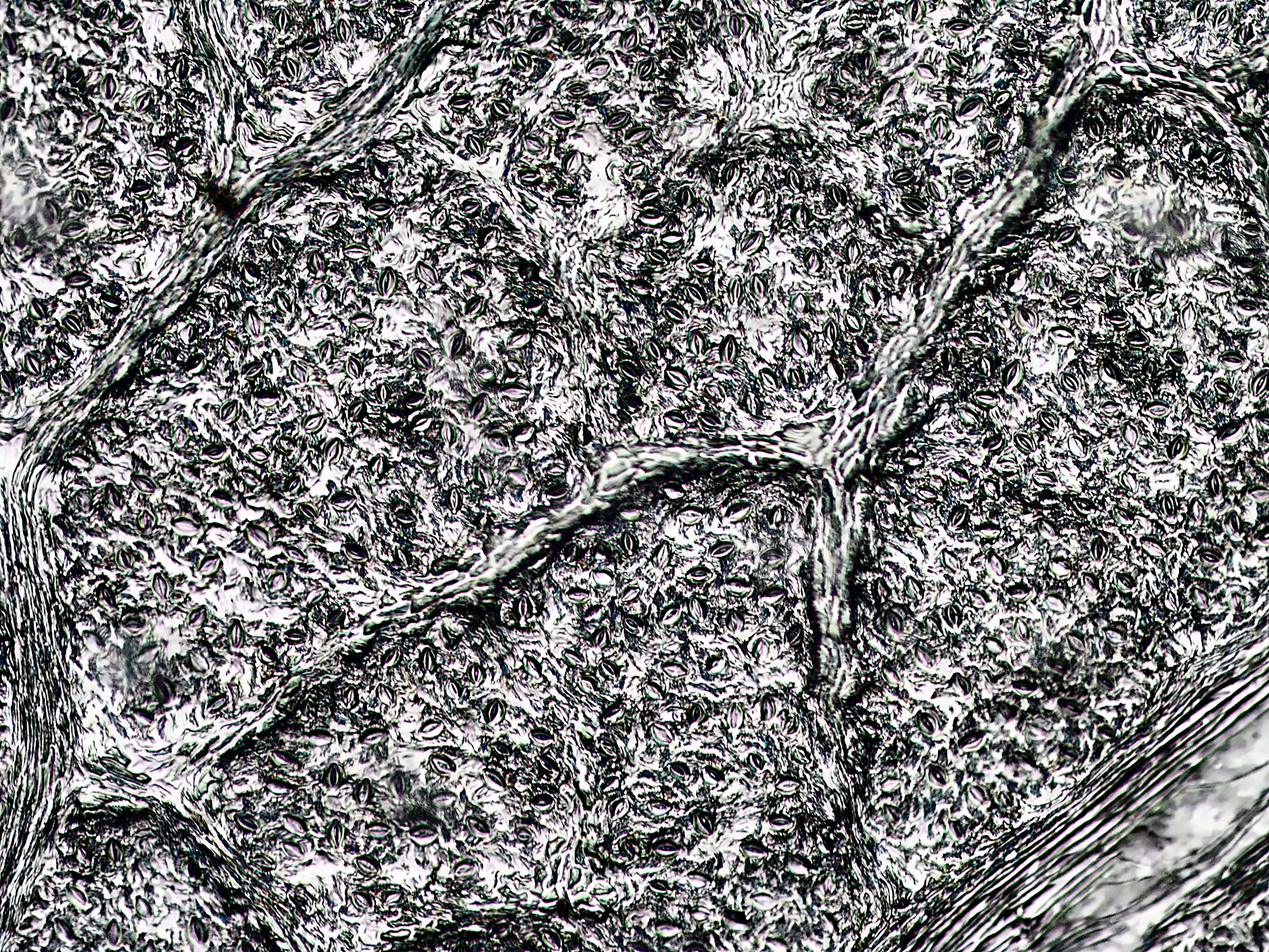stomata: (80, 626, 108, 655), (242, 305, 265, 338), (539, 926, 568, 952), (1002, 359, 1024, 392), (352, 854, 382, 878), (719, 333, 741, 365), (408, 825, 440, 847), (462, 815, 494, 837), (53, 915, 77, 944), (188, 916, 209, 949), (377, 265, 398, 298), (1215, 421, 1246, 443), (822, 317, 843, 349), (765, 811, 797, 832), (444, 331, 467, 360), (737, 840, 772, 859), (154, 674, 176, 704), (264, 776, 294, 798), (359, 725, 389, 747), (484, 430, 510, 455), (246, 522, 270, 549), (174, 137, 202, 160), (479, 225, 502, 253), (648, 722, 676, 745), (650, 537, 670, 569), (708, 461, 740, 481), (879, 79, 901, 108), (725, 702, 747, 731), (1167, 434, 1189, 463), (64, 884, 89, 909), (959, 96, 983, 122), (692, 809, 716, 835), (468, 394, 491, 421), (929, 115, 952, 142), (958, 731, 985, 754), (562, 147, 582, 178), (97, 582, 119, 610), (438, 419, 460, 447), (484, 696, 506, 724), (1153, 248, 1175, 276), (1067, 431, 1089, 459), (376, 681, 397, 710), (1250, 368, 1269, 400), (40, 198, 60, 228), (254, 387, 284, 407), (344, 540, 369, 564), (323, 764, 343, 794), (1059, 370, 1083, 395), (1014, 431, 1038, 456), (1186, 495, 1206, 525), (507, 329, 533, 352), (741, 232, 764, 258), (502, 382, 529, 404), (281, 812, 308, 834), (986, 550, 1008, 577), (1156, 491, 1178, 518), (924, 761, 946, 788), (783, 854, 814, 873), (1202, 276, 1233, 295), (8, 225, 29, 253), (64, 450, 92, 471), (720, 159, 741, 187), (430, 790, 458, 811), (759, 545, 787, 566), (1049, 325, 1077, 346), (1098, 356, 1119, 384), (307, 248, 327, 277), (281, 545, 310, 565), (772, 774, 801, 794), (662, 660, 691, 680), (962, 329, 991, 349), (1197, 548, 1226, 568), (1011, 677, 1040, 697), (1014, 306, 1038, 330), (74, 491, 99, 514), (188, 647, 211, 672), (416, 261, 439, 286), (530, 791, 556, 813), (1043, 592, 1069, 614), (683, 565, 713, 584), (759, 693, 778, 723), (525, 26, 552, 47), (171, 516, 199, 536), (698, 412, 726, 432), (724, 504, 752, 524), (1099, 625, 1127, 645), (1058, 695, 1086, 715), (445, 483, 463, 514), (1147, 114, 1165, 145), (433, 752, 456, 776), (483, 767, 506, 791), (1006, 269, 1029, 293), (317, 338, 336, 367), (689, 257, 718, 276), (687, 328, 706, 357), (353, 777, 372, 806), (1121, 421, 1140, 450), (685, 866, 710, 888), (606, 795, 628, 820), (880, 663, 902, 688), (131, 473, 157, 494), (331, 492, 357, 513), (757, 365, 778, 391), (1119, 223, 1145, 244), (226, 619, 244, 649), (828, 183, 848, 210), (627, 278, 654, 298), (273, 749, 300, 769), (590, 626, 610, 653), (679, 505, 706, 525), (725, 577, 752, 597), (876, 775, 903, 795), (947, 19, 975, 38), (90, 37, 114, 59), (942, 547, 964, 571), (327, 818, 344, 849), (220, 399, 241, 424), (412, 348, 433, 373), (418, 718, 443, 739), (585, 58, 611, 78), (551, 109, 577, 129), (947, 465, 973, 485), (953, 672, 973, 698), (349, 312, 376, 331), (323, 438, 342, 465), (752, 274, 771, 301), (522, 653, 541, 680), (516, 594, 532, 626), (844, 238, 861, 268), (199, 554, 221, 577), (187, 605, 209, 628), (449, 91, 472, 113), (665, 367, 688, 389), (282, 839, 305, 861), (724, 906, 746, 929), (910, 510, 933, 532), (1117, 471, 1140, 493), (916, 711, 938, 734), (133, 89, 154, 113), (319, 209, 343, 230), (463, 296, 487, 317), (702, 383, 726, 404), (792, 329, 810, 357), (367, 819, 391, 840), (419, 648, 437, 676), (136, 509, 156, 534), (150, 573, 170, 598), (908, 0, 928, 25), (790, 292, 810, 317), (251, 852, 276, 872), (662, 479, 687, 499), (750, 636, 770, 661), (1084, 115, 1104, 140), (904, 575, 924, 600), (965, 588, 990, 608), (392, 769, 408, 800), (852, 118, 878, 137), (750, 185, 769, 211), (1053, 226, 1079, 245), (884, 609, 903, 635), (107, 836, 124, 865), (158, 712, 175, 741), (366, 199, 395, 216), (1209, 469, 1226, 498), (88, 159, 115, 177), (200, 443, 227, 461), (274, 9, 292, 36), (431, 205, 449, 232), (544, 484, 571, 502), (605, 110, 632, 128), (750, 893, 777, 911), (185, 353, 207, 375), (352, 891, 374, 913), (957, 405, 979, 427), (945, 817, 967, 839), (897, 127, 920, 148), (235, 810, 258, 831), (1180, 139, 1201, 162), (1165, 348, 1188, 369), (129, 180, 153, 200), (344, 356, 364, 380), (288, 359, 308, 383), (842, 11, 866, 31), (947, 53, 971, 73), (954, 168, 978, 188), (889, 261, 909, 285), (668, 758, 692, 778), (1102, 164, 1126, 184), (1064, 633, 1088, 653), (794, 202, 811, 230), (653, 921, 681, 938), (761, 588, 789, 605), (1218, 352, 1246, 369), (174, 99, 199, 118), (144, 151, 169, 170), (121, 616, 146, 635), (502, 357, 527, 376), (661, 303, 686, 322), (941, 346, 960, 371), (948, 504, 967, 529), (99, 75, 117, 101), (99, 294, 125, 312), (210, 490, 236, 508), (136, 894, 154, 920), (460, 269, 486, 287), (505, 468, 531, 486), (804, 247, 822, 273), (828, 358, 846, 384), (1225, 510, 1243, 536), (105, 918, 120, 949), (730, 275, 745, 306), (64, 271, 93, 287), (1181, 301, 1197, 330), (946, 602, 962, 631), (562, 36, 584, 57), (685, 282, 706, 304), (618, 359, 639, 381), (518, 262, 541, 282), (302, 412, 325, 432), (1038, 411, 1061, 431), (913, 645, 933, 668), (106, 213, 133, 230), (60, 222, 87, 239), (1139, 630, 1156, 657), (415, 448, 439, 467), (295, 502, 319, 521), (563, 648, 587, 667), (583, 604, 607, 623), (726, 609, 745, 633), (784, 625, 803, 649), (114, 547, 132, 572), (392, 0, 417, 18), (466, 132, 484, 157), (823, 88, 848, 106), (640, 209, 665, 227), (1104, 308, 1129, 326), (900, 449, 925, 467), (625, 129, 653, 145), (652, 95, 680, 111), (787, 164, 803, 192), (306, 730, 334, 746), (975, 522, 1003, 538), (336, 18, 353, 44), (553, 189, 579, 206), (343, 242, 369, 259), (646, 797, 672, 814), (618, 505, 644, 522), (1158, 159, 1175, 185), (1071, 497, 1097, 514), (258, 643, 279, 664), (492, 98, 513, 119), (598, 659, 619, 680), (882, 802, 903, 823), (130, 706, 152, 726), (981, 134, 1003, 154), (381, 885, 401, 907), (703, 763, 725, 783), (84, 114, 103, 137), (24, 352, 43, 375), (266, 234, 289, 253), (300, 38, 323, 57), (393, 545, 412, 568), (1049, 558, 1072, 577), (249, 56, 267, 80), (284, 56, 302, 80), (274, 290, 292, 314), (1009, 37, 1033, 55), (903, 197, 927, 215), (652, 839, 679, 855), (466, 661, 484, 685), (690, 703, 708, 727), (1089, 264, 1113, 282), (1005, 584, 1032, 600), (1140, 537, 1164, 555), (244, 259, 261, 284), (660, 231, 685, 248), (1238, 21, 1255, 46), (1090, 537, 1107, 562), (27, 297, 47, 318), (512, 51, 533, 71), (459, 196, 479, 217), (491, 919, 511, 940), (529, 729, 557, 744), (599, 738, 619, 759), (644, 682, 665, 702), (1059, 166, 1080, 186), (979, 479, 1000, 499), (1115, 573, 1135, 594), (1095, 672, 1116, 692), (240, 467, 262, 486), (368, 158, 387, 180), (474, 363, 496, 382), (268, 572, 287, 594), (457, 860, 479, 879), (711, 540, 733, 559), (1247, 485, 1269, 504), (1037, 517, 1056, 539), (173, 55, 189, 81), (662, 412, 688, 428), (1144, 401, 1170, 417), (206, 694, 229, 712), (844, 309, 862, 332), (342, 685, 360, 708), (593, 567, 616, 585), (1236, 257, 1259, 275), (872, 577, 890, 600), (125, 865, 142, 889), (370, 455, 387, 479), (678, 186, 695, 210), (688, 597, 705, 621), (1117, 108, 1134, 132), (976, 391, 1000, 408), (1145, 290, 1169, 307), (1125, 330, 1149, 347), (2, 96, 17, 123), (326, 607, 346, 627), (994, 457, 1019, 473), (966, 785, 986, 805), (110, 416, 129, 437), (487, 19, 506, 40), (636, 59, 655, 80), (1207, 147, 1226, 168), (982, 433, 1003, 452), (118, 15, 140, 33), (249, 447, 271, 465), (523, 134, 545, 152), (313, 284, 331, 306), (514, 424, 536, 442), (347, 401, 365, 423), (747, 750, 765, 772), (782, 713, 800, 735), (976, 354, 994, 376), (1081, 574, 1099, 596), (981, 636, 1003, 654), (1255, 521, 1269, 549), (23, 0, 46, 17), (76, 845, 93, 868), (223, 333, 240, 356), (929, 178, 946, 201), (892, 167, 915, 184), (998, 234, 1021, 251), (1237, 299, 1260, 316), (1061, 290, 1084, 307), (1012, 618, 1029, 641), (861, 49, 876, 75), (621, 531, 636, 557), (565, 82, 589, 98), (518, 169, 542, 185), (861, 280, 877, 304), (746, 391, 762, 415), (567, 586, 591, 602), (769, 504, 785, 528), (915, 485, 939, 501), (244, 359, 264, 378), (276, 436, 296, 455), (551, 1, 570, 21), (491, 738, 511, 757), (381, 648, 400, 668), (661, 604, 681, 623), (1213, 380, 1233, 399), (1114, 506, 1133, 526), (73, 189, 91, 210), (64, 313, 82, 334), (669, 40, 687, 61), (992, 91, 1013, 109), (647, 248, 668, 266), (606, 701, 624, 722), (646, 880, 671, 895), (38, 111, 55, 133), (393, 509, 415, 526), (621, 28, 638, 50), (623, 396, 645, 413), (853, 335, 870, 357), (707, 654, 724, 676), (1128, 266, 1145, 288), (403, 391, 426, 407), (1214, 5, 1230, 28), (1039, 269, 1055, 292), (108, 483, 122, 509), (537, 754, 556, 773), (55, 340, 73, 360), (523, 299, 547, 314), (306, 587, 326, 605), (476, 464, 491, 488), (917, 62, 937, 80), (624, 615, 642, 635), (1099, 399, 1123, 414), (621, 587, 642, 604), (861, 720, 882, 737), (879, 33, 901, 49), (1194, 587, 1210, 609), (1030, 472, 1057, 485), (575, 420, 589, 445), (1214, 224, 1228, 249), (3, 31, 18, 54), (14, 163, 37, 178), (173, 425, 188, 448), (216, 292, 231, 315), (94, 4, 112, 23), (375, 383, 392, 403), (626, 161, 646, 178), (645, 337, 662, 357), (794, 744, 811, 764), (1096, 723, 1116, 740), (183, 858, 199, 879), (639, 189, 660, 205), (552, 703, 568, 724), (1193, 0, 1209, 21), (1188, 392, 1204, 413), (1059, 744, 1080, 760), (1038, 492, 1060, 507), (0, 369, 13, 394), (159, 345, 177, 363), (515, 824, 533, 842), (622, 839, 640, 857), (560, 543, 577, 562), (285, 628, 306, 643), (446, 679, 461, 700), (1240, 222, 1262, 236), (180, 462, 197, 480), (285, 476, 302, 494), (687, 10, 704, 28), (602, 775, 619, 793), (1141, 15, 1158, 33), (42, 53, 57, 73), (413, 416, 433, 431), (1144, 358, 1159, 378), (999, 788, 1014, 808), (789, 367, 803, 388), (838, 66, 855, 83), (180, 323, 196, 341), (547, 462, 566, 477), (1229, 592, 1244, 611), (662, 0, 682, 14), (730, 13, 741, 38), (67, 69, 84, 85), (578, 676, 595, 692), (247, 1, 262, 19), (348, 0, 375, 10), (61, 0, 83, 12), (384, 411, 404, 424), (1166, 588, 1178, 609), (1256, 412, 1269, 427)
